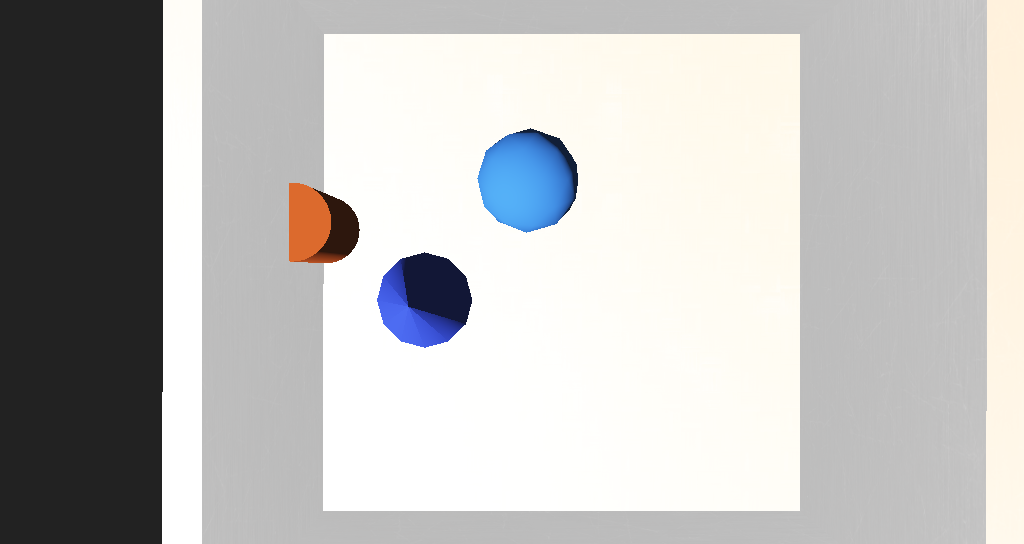cone: (320, 231, 381, 265)
cylinder: (377, 258, 445, 305)
sphere: (455, 208, 515, 251)
